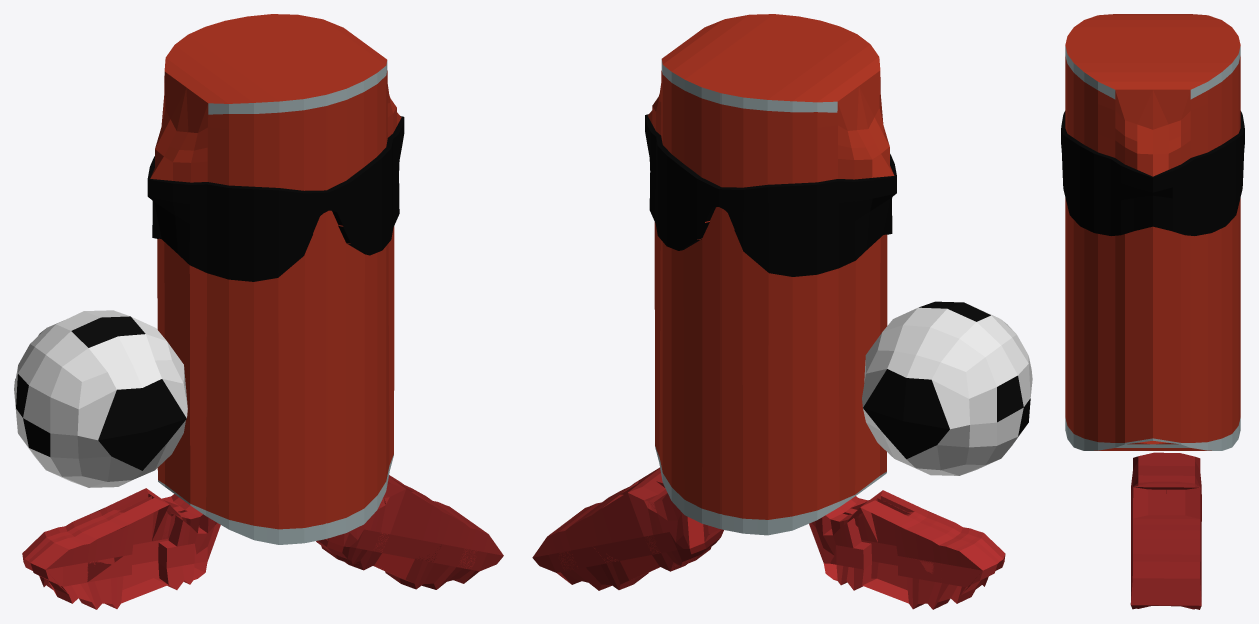
The model's file is cocacola.fbx.
3 views of the same model, side by side, from view 1: azimuth 30°, elevation 25°; view 2: azimuth 150°, elevation 25°; view 3: azimuth 270°, elevation 25° (orthographic). The views are drawn at different scales.
Parts seen in each view (by area): view 1: Cube, Cube.004, Cube.003, Cube.001; view 2: Cube, Cube.004, Cube.003, Cube.001; view 3: Cube, Cube.001.
Part boxes in pixels (x1=…): Cube: x1=147, y1=14, x2=404, y2=544; Cube.004: x1=14, y1=310, x2=187, y2=487; Cube.003: x1=22, y1=488, x2=220, y2=609; Cube.001: x1=316, y1=475, x2=503, y2=589; Cube: x1=645, y1=14, x2=896, y2=535; Cube.004: x1=862, y1=301, x2=1032, y2=475; Cube.003: x1=809, y1=490, x2=1005, y2=609; Cube.001: x1=532, y1=467, x2=723, y2=590; Cube: x1=1061, y1=14, x2=1244, y2=450; Cube.001: x1=1130, y1=452, x2=1201, y2=609.
Size of the model in its own units: 419 by 480 by 164.
